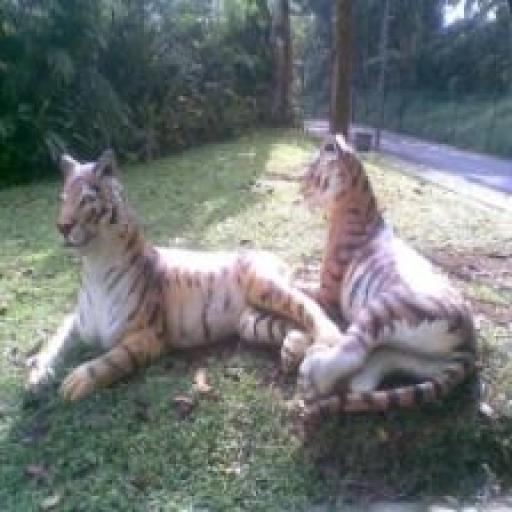Tiger: (27, 130, 487, 429)
